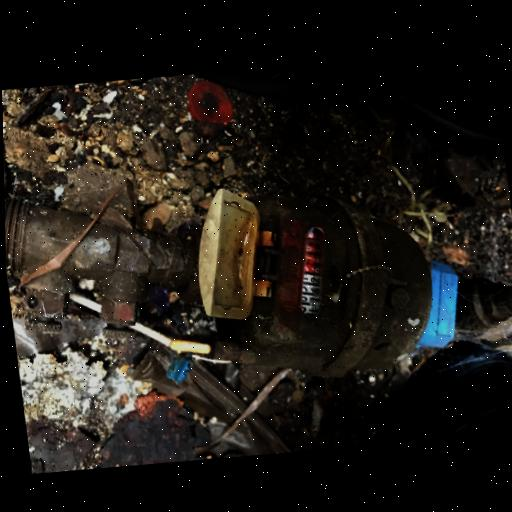0: (304, 241, 325, 258)
1: (299, 301, 321, 317)
2: (301, 271, 323, 287), (305, 230, 326, 246)
6: (302, 260, 324, 277), (300, 281, 323, 297)
7: (299, 291, 322, 307), (303, 251, 324, 266)
border_water_meter_number: (287, 223, 336, 320)
